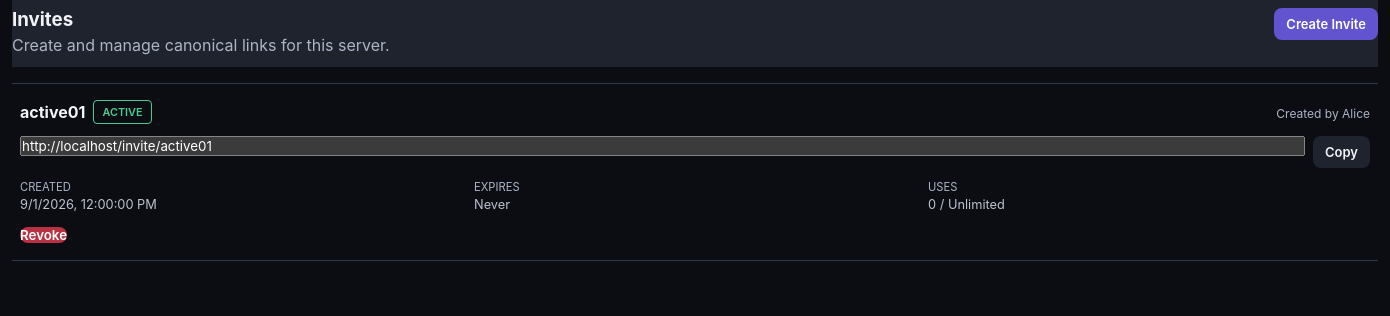
Test: F.5.4 Invite Administration › copies canonical URLs and leaves the input selected after clipboard failure
Click the button "Copy".
click(1342, 152)  # box left=1313, top=136, right=1370, bottom=168
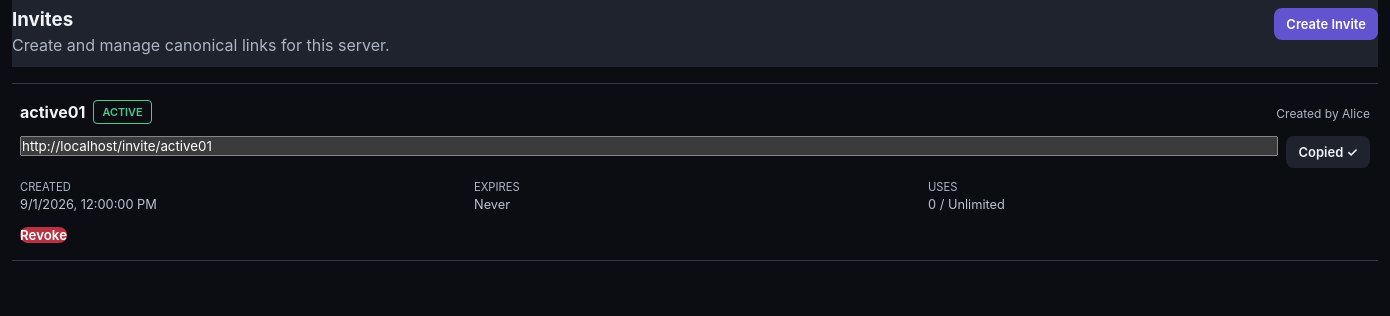
Now the button "Copied ✓" is shown
Click the button "Copied ✓".
click(1328, 152)  # box left=1286, top=136, right=1370, bottom=168
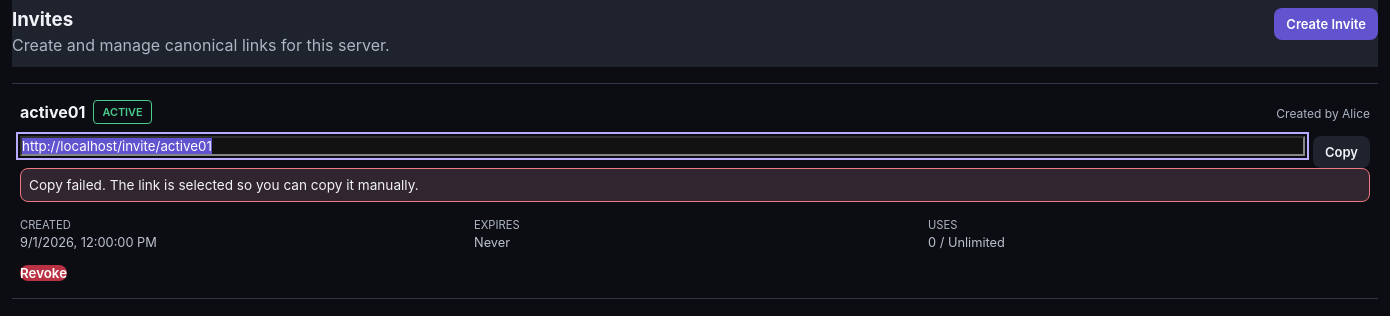
Now the text "Copy failed. The link is selected so you can copy it manually." is shown, box left=20, top=168, right=1370, bottom=202
